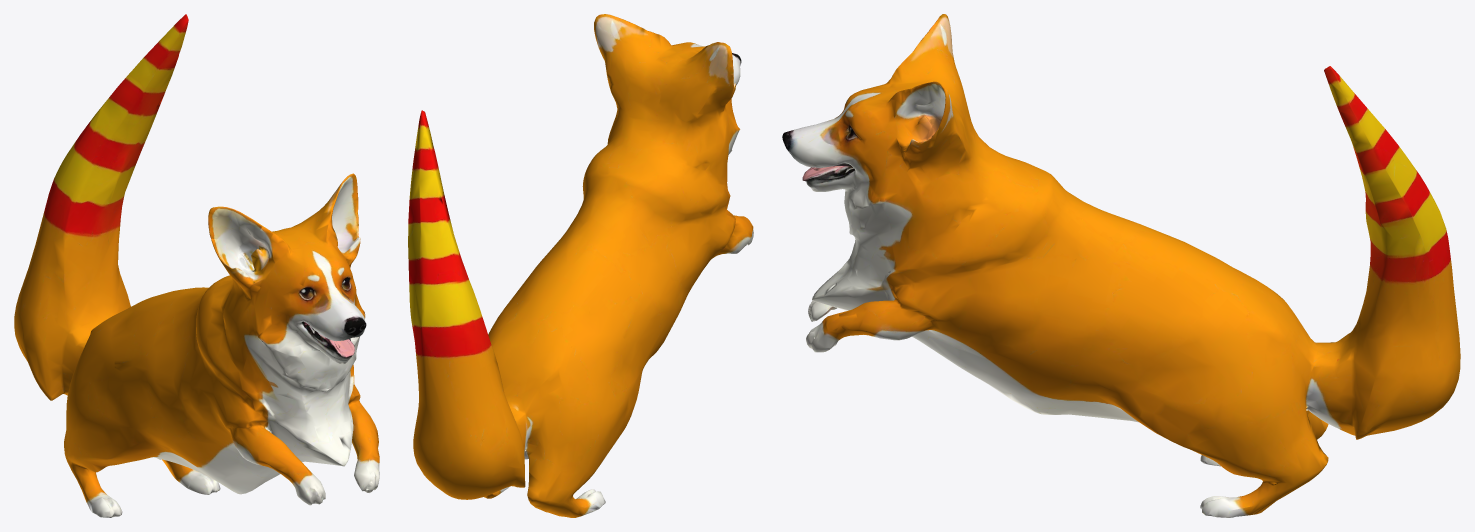
File: traffic-cone-corgi-8246.glb
3 views of the same model, side by side, from view 1: azimuth 30°, elevation 25°; view 2: azimuth 150°, elevation 25°; view 3: azimuth 270°, elevation 25° (orthographic). The views are drawn at different scales.
Bounding box in the file's own units: 0.5504 × 1.44 × 1.91.
1 material, 1 textured.
